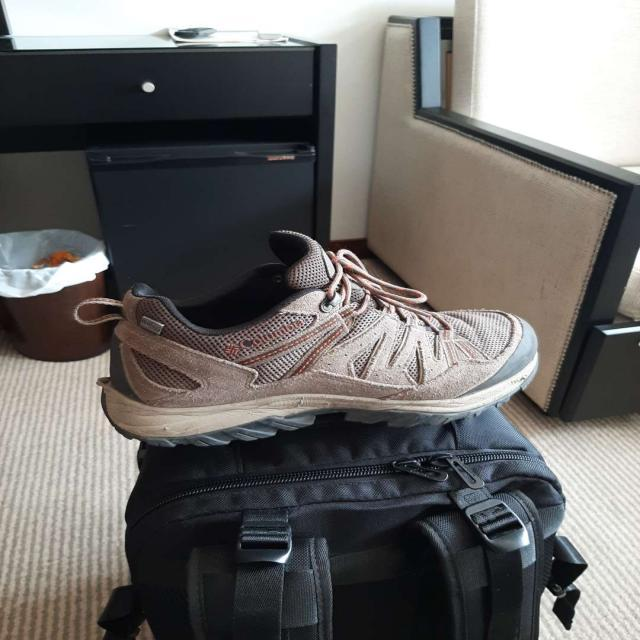shoe: (97, 225, 541, 450)
